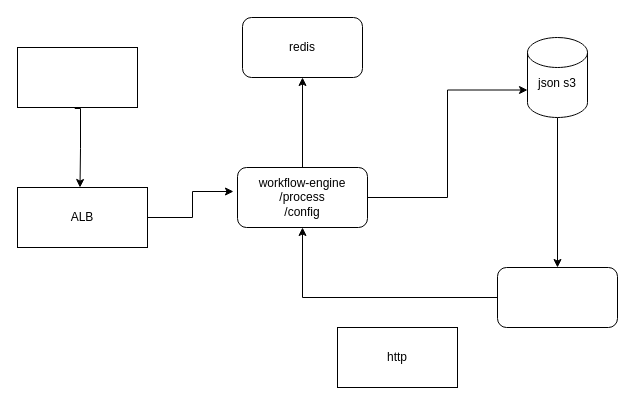
This 635x405 diagram has some shape labels left out. Here are the shapes that lost their labels. From the top down, the centre of each, then its label:
At (77,77): "emi ms bbps flowytpe - netbanking.kotak".
At (557,297): "config updater".
